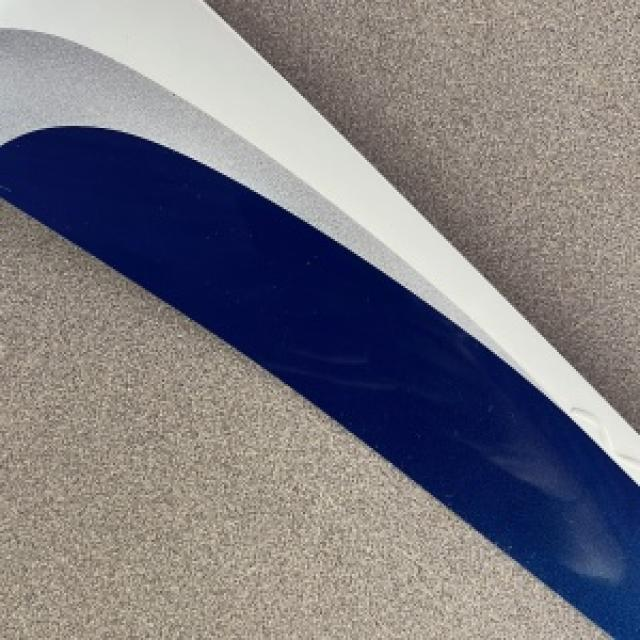healthy: (0, 203, 606, 638)
